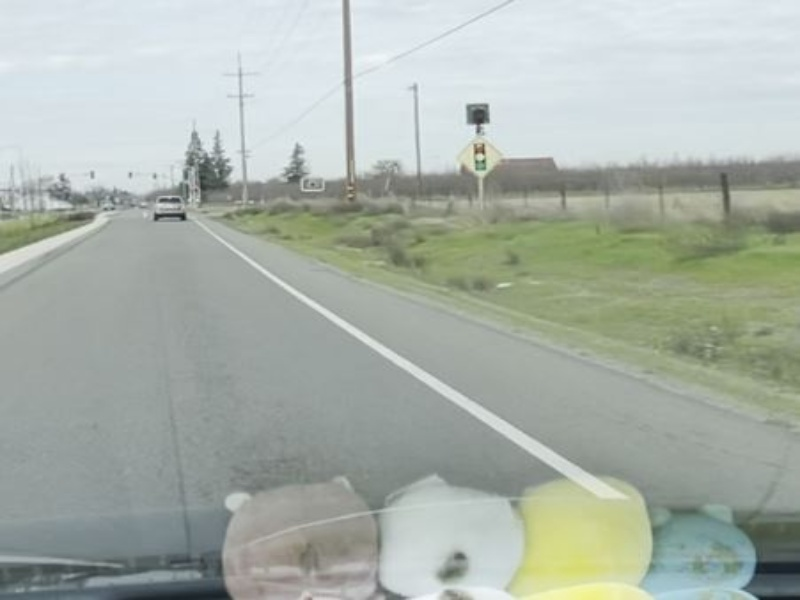traffic signal sign: (456, 136, 505, 178)
